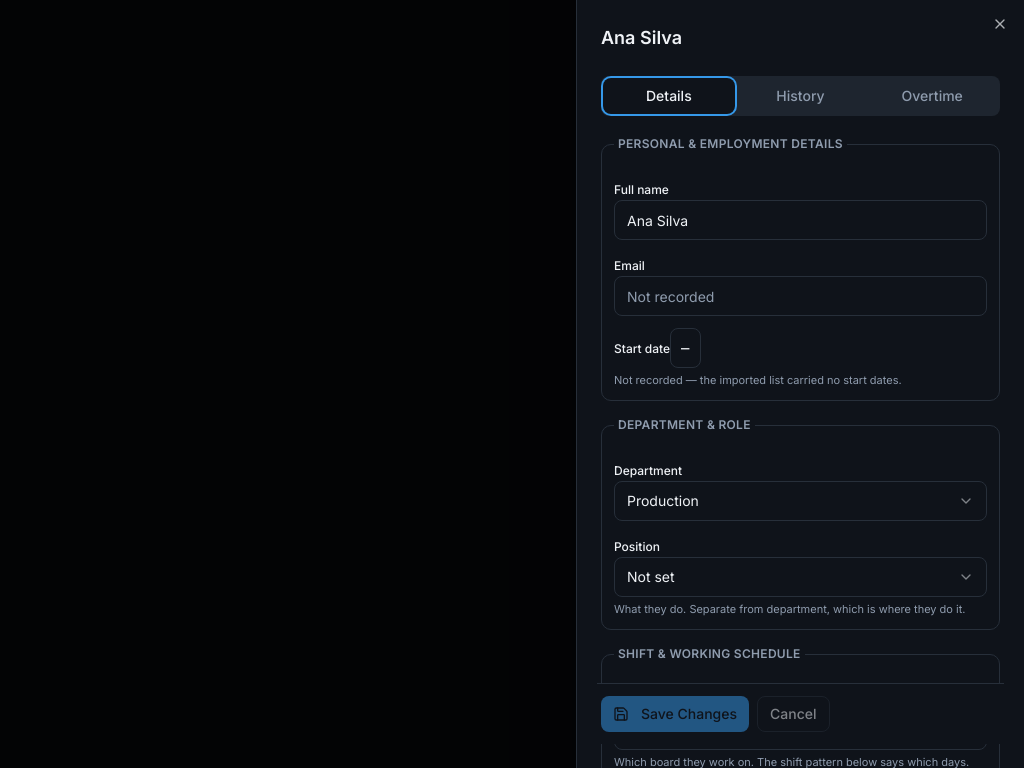
Scenario: o campo do nome avisa antes de criar um segundo Felipe › mostra quem ja esta no registo com esse nome
Step 1. Replace the text in the field labelled "Full name" with "Felipe Araujo" → (800, 220), box top-left (614, 200), bottom-right (987, 240)
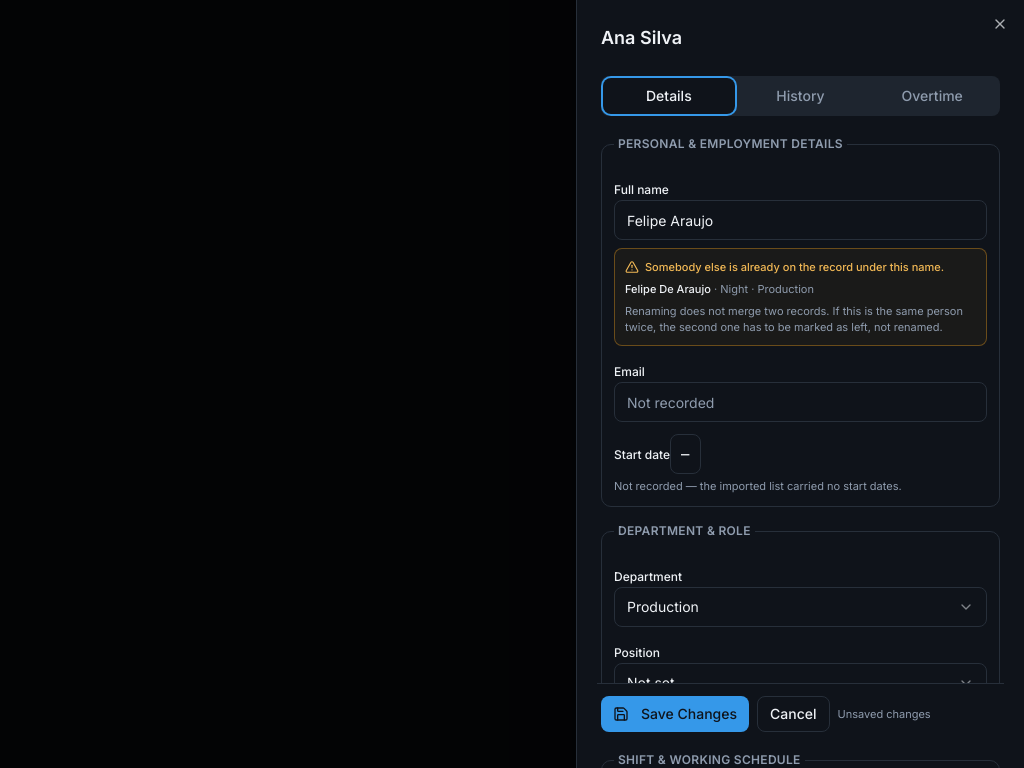
Now the text "Somebody else is already on the record under this name." is shown, box top-left (625, 259), bottom-right (976, 275)
Now the text "Felipe De Araujo" is shown, box top-left (625, 282), bottom-right (711, 296)
Now the text "does not merge two records" is shown, box top-left (625, 304), bottom-right (963, 334)
